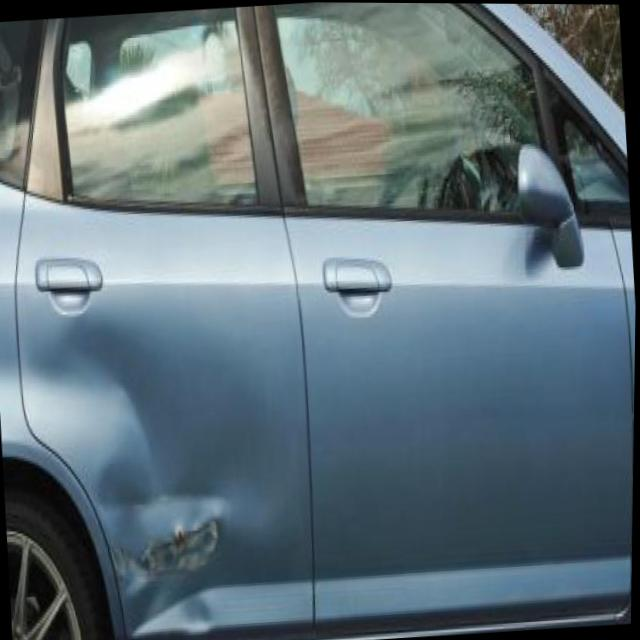Dent: (84, 332, 295, 585)
